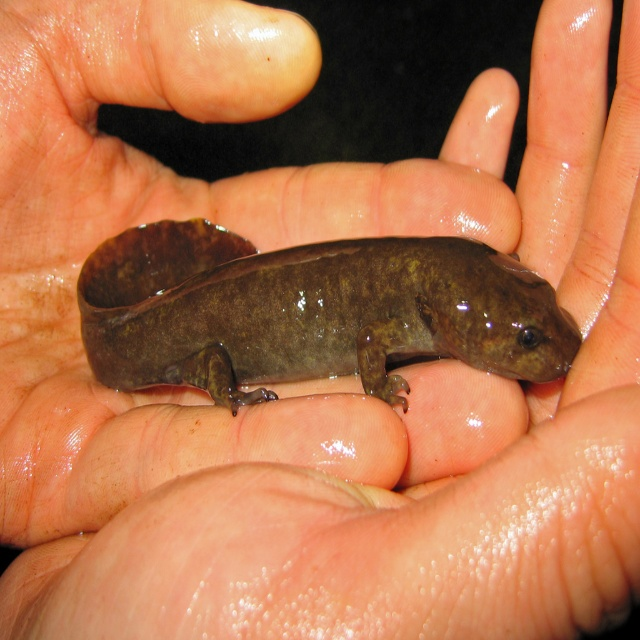Lizard: (78, 219, 582, 415)
